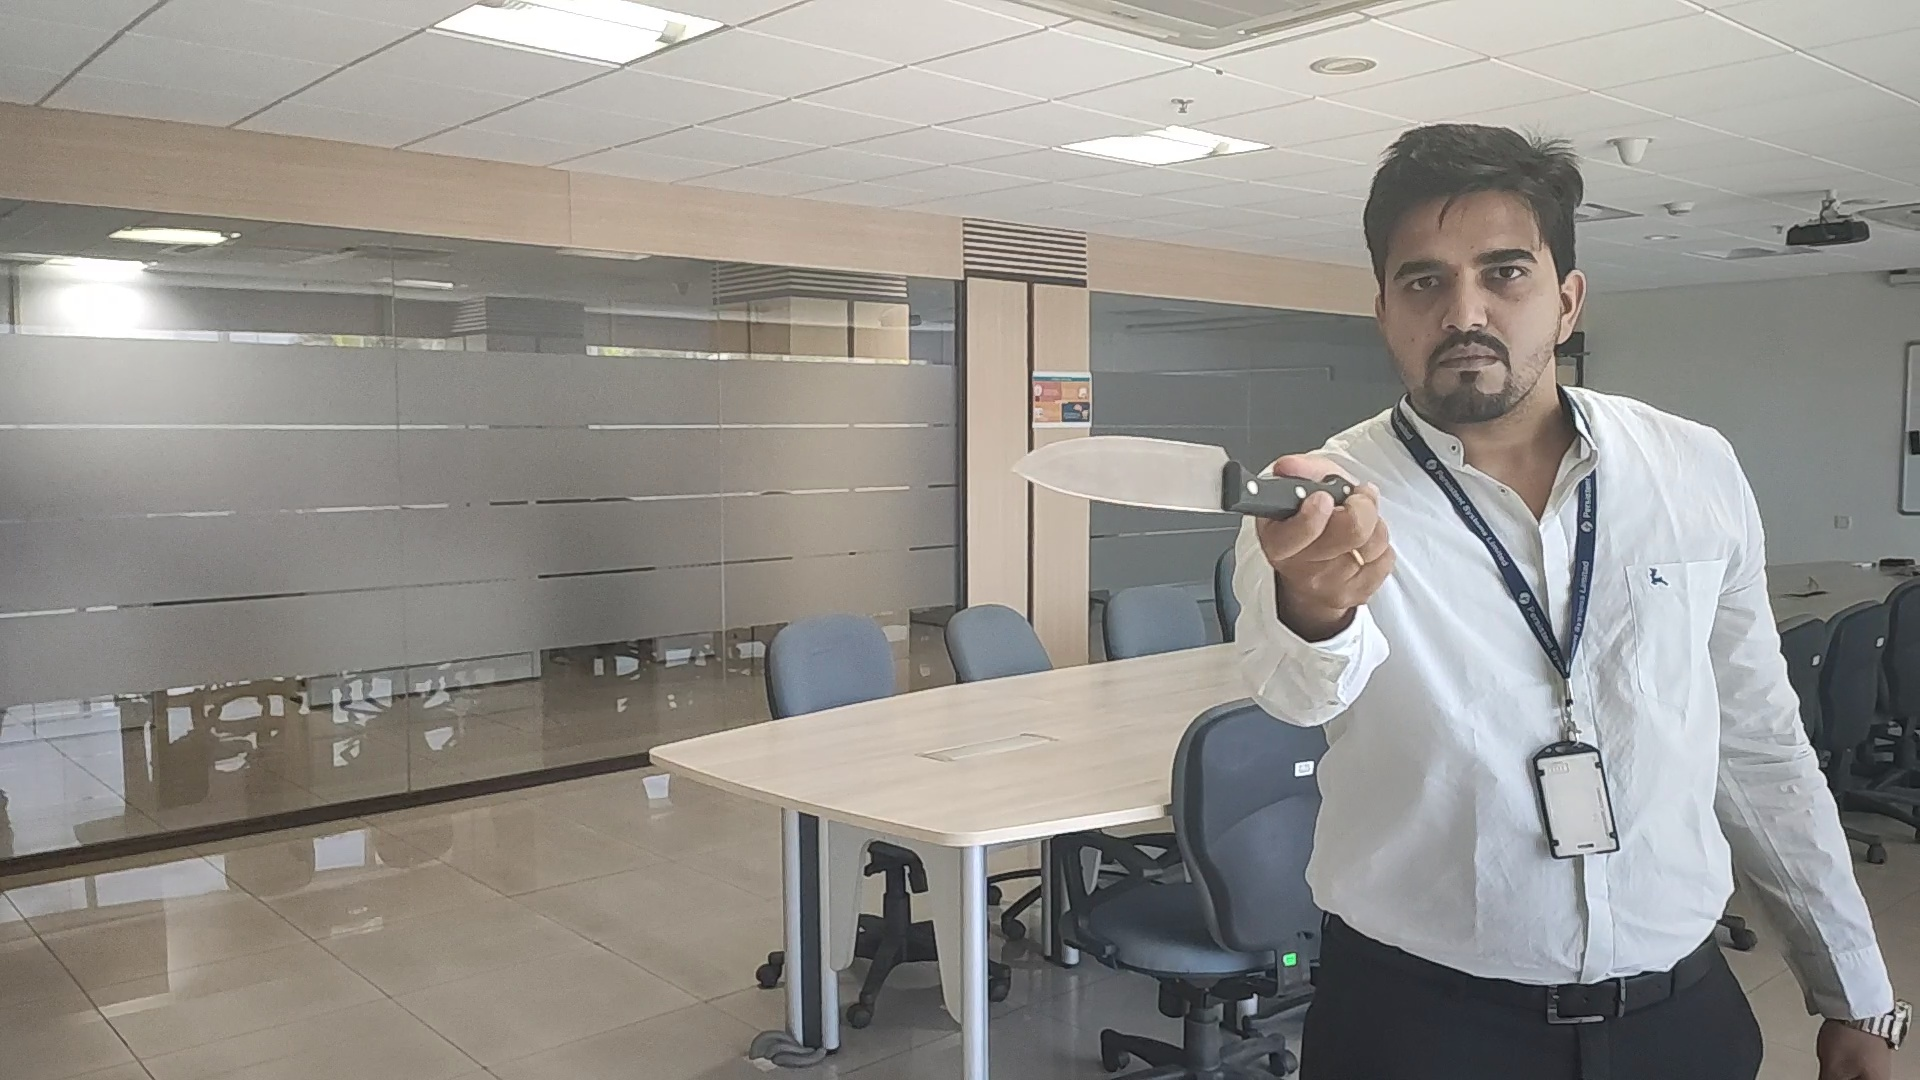knife: (1011, 435, 1299, 520)
